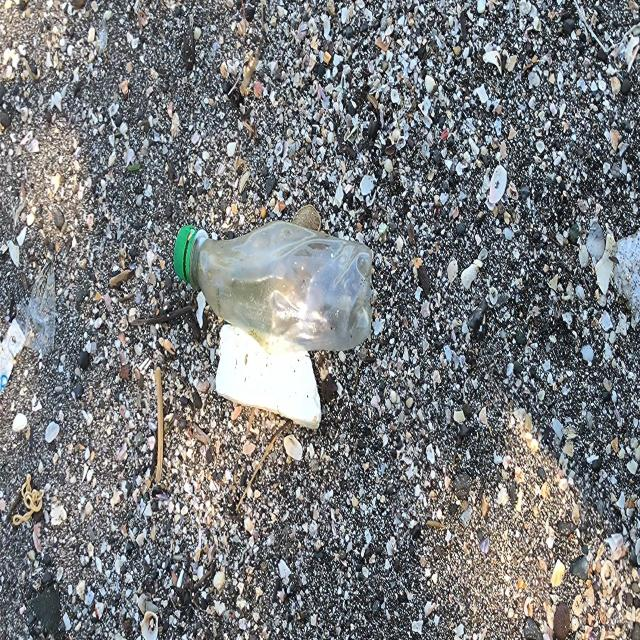plastic_waste: (175, 222, 373, 354)
